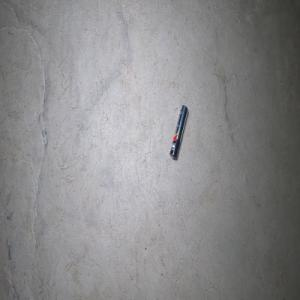Battery: (169, 104, 188, 160)
